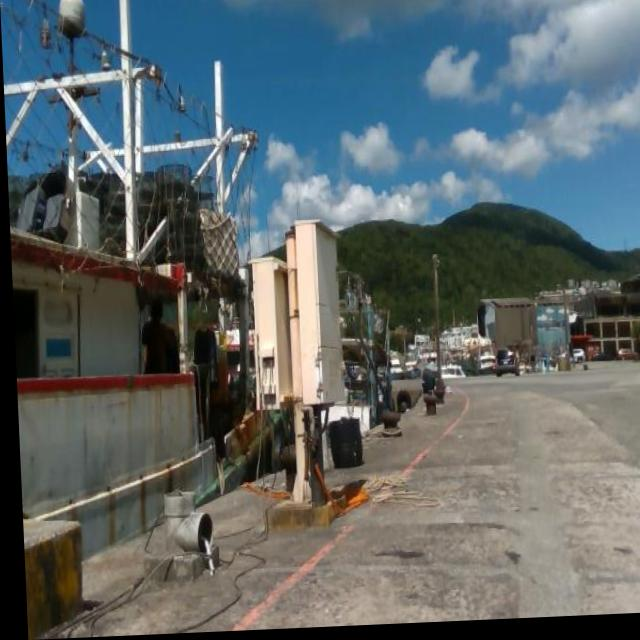pollute: (322, 417, 362, 474)
